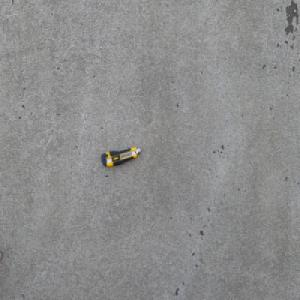Cutter: (100, 146, 141, 167)
